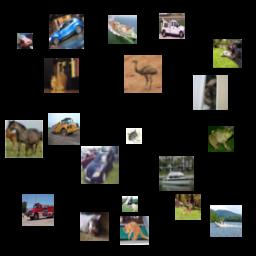automobile: (81, 146, 119, 184), (49, 14, 84, 49), (17, 33, 33, 49)
bird: (124, 55, 162, 93), (213, 39, 242, 68)
cat: (193, 75, 228, 110), (44, 58, 79, 93), (120, 216, 149, 245), (80, 212, 109, 241), (126, 128, 142, 144)
deer: (175, 194, 201, 220)
frog: (208, 126, 234, 152)
ship: (159, 156, 194, 191), (210, 205, 242, 237), (108, 15, 137, 44)
truck: (22, 194, 54, 226), (48, 113, 80, 145), (159, 13, 185, 39)
